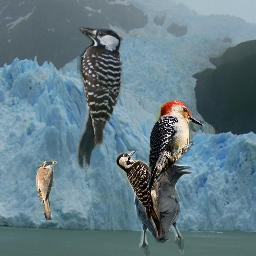Crow: (134, 161, 193, 256)
Cuckoo: (36, 161, 57, 220)
Woodpecker: (75, 24, 125, 169), (148, 100, 206, 191), (116, 151, 169, 240)
